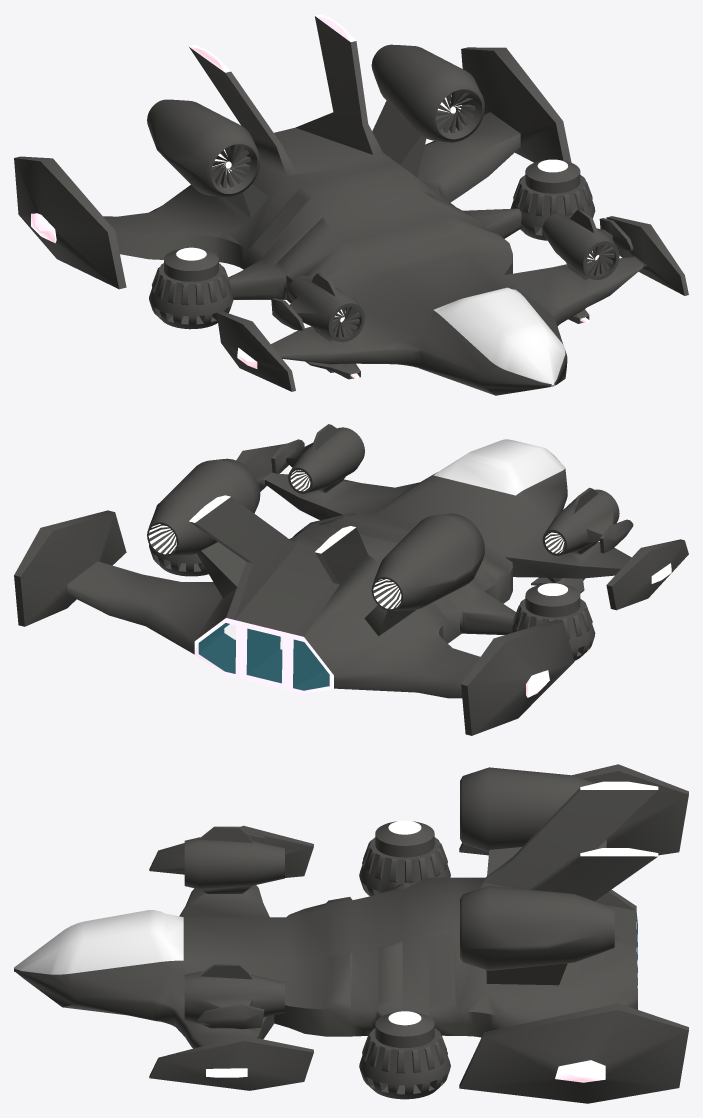
File: arwing.glb
3 renders of one model, top to bottom at view 1: azimuth 30°, elevation 25°; view 2: azimuth 150°, elevation 25°; view 3: azimuth 270°, elevation 25°, orthographic. The views are drawn at different scales.
Parts seen in each view (by area): view 1: SpaceShip; view 2: SpaceShip; view 3: SpaceShip.
Part boxes in pixels (left/top/right/bottom): SpaceShip: left=14, top=14, right=688, bottom=395; SpaceShip: left=14, top=424, right=688, bottom=735; SpaceShip: left=14, top=764, right=688, bottom=1103.
Size of the model in its own units: 24.52 by 8.32 by 26.2.
